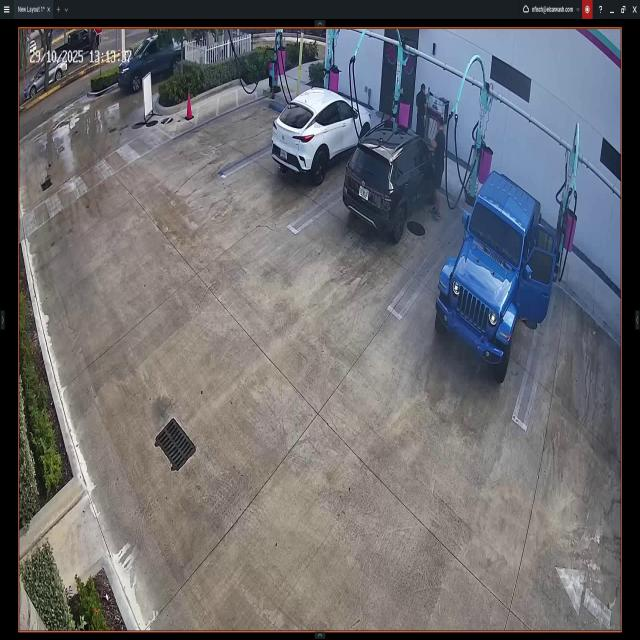Car: (434, 173, 554, 382), (344, 117, 440, 245), (273, 85, 372, 189), (117, 38, 183, 92)
